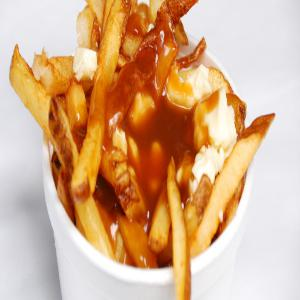fries_350cal: (1, 4, 279, 264)
